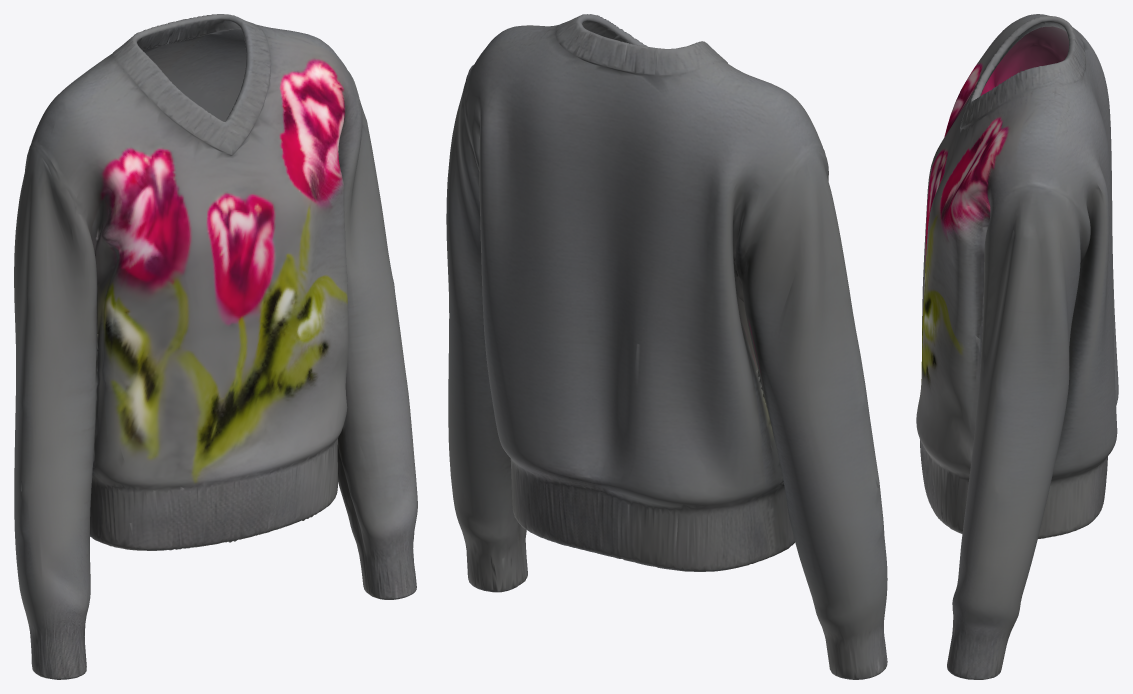
File: flower-sweater.glb
3 views of the same model, side by side, from view 1: azimuth 30°, elevation 25°; view 2: azimuth 150°, elevation 25°; view 3: azimuth 270°, elevation 25° (orthographic). The views are drawn at different scales.
Visible parts, largest first — view 1: node_0; view 2: node_0; view 3: node_0.
Part boxes in pixels (x1=…): node_0: x1=14, y1=14, x2=417, y2=679; node_0: x1=446, y1=14, x2=887, y2=679; node_0: x1=916, y1=14, x2=1118, y2=679.
Bounding box in the file's own units: 0.7038 × 0.9878 × 0.3271.
Materials: 1 (1 with a texture image).
